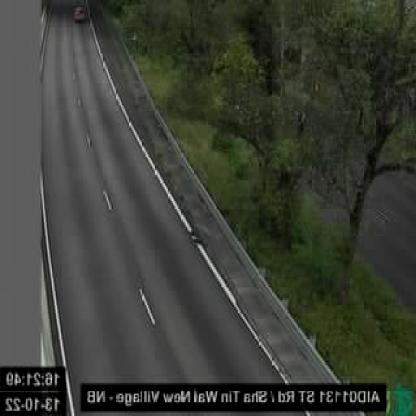Truck: (71, 4, 87, 24)
